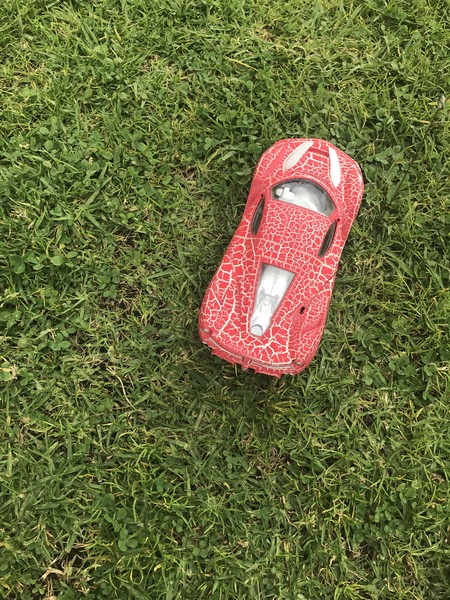RC: (197, 137, 367, 381)
